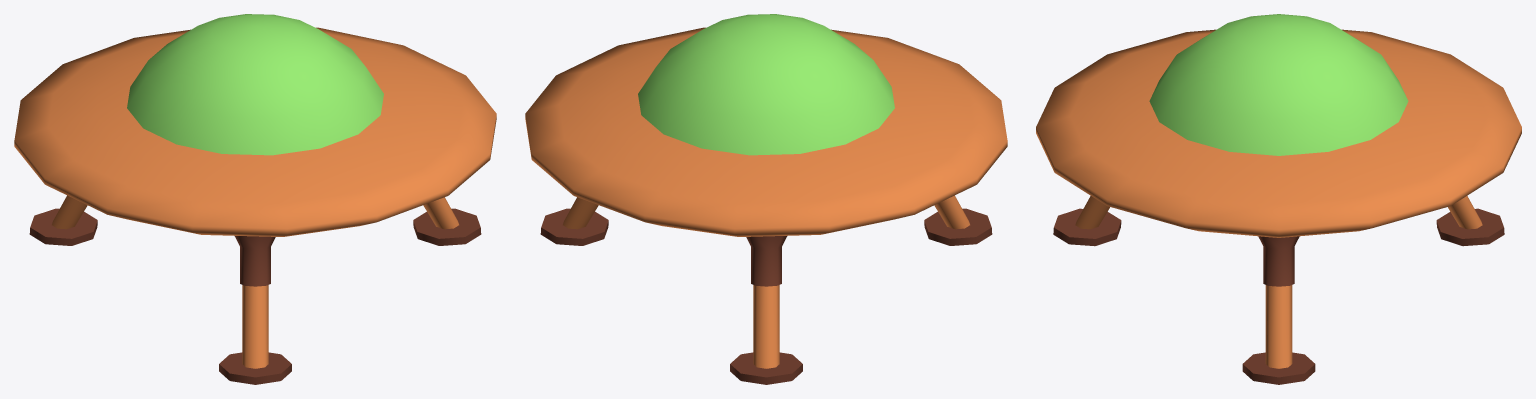
File: Ovni.fbx
3 views of the same model, side by side, from view 1: azimuth 30°, elevation 25°; view 2: azimuth 150°, elevation 25°; view 3: azimuth 270°, elevation 25° (orthographic).
Visible parts, largest first — view 1: Ovni; view 2: Ovni; view 3: Ovni.
Part boxes in pixels (left/top/right/bottom): Ovni: left=14, top=14, right=496, bottom=384; Ovni: left=525, top=14, right=1007, bottom=384; Ovni: left=1036, top=14, right=1521, bottom=384.
Size of the model in its own units: 653 by 364 by 636.
